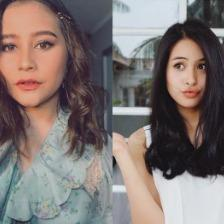Non hijab: (0, 0, 104, 155), (148, 15, 224, 182)
